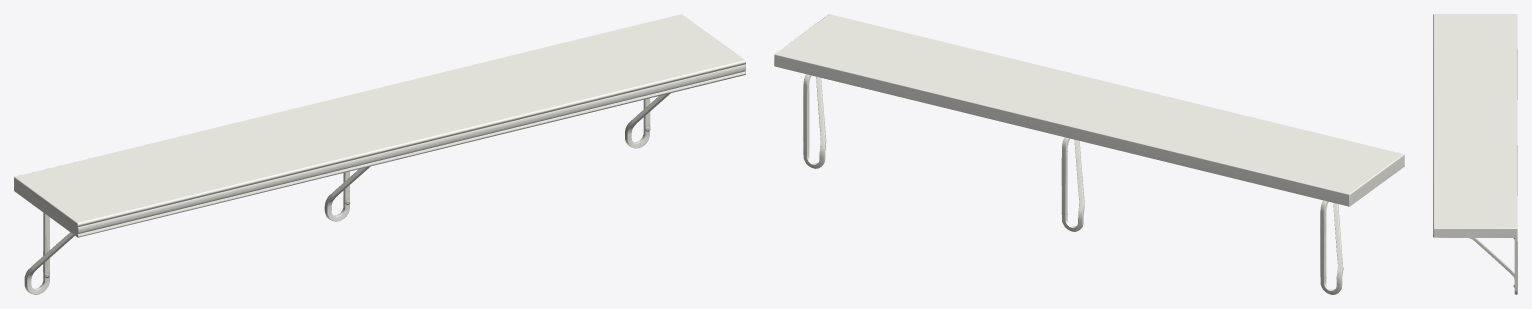
Rendered from 33 - BERGSHULT FÖRLÄGGARE Wall shelf - whitewhite 120x20 cm.glb.
The picture shows the model from 3 angles, left to right: view 1: azimuth 30°, elevation 25°; view 2: azimuth 150°, elevation 25°; view 3: azimuth 270°, elevation 25°; orthographic projection. The views are drawn at different scales.
Parts seen in each view (by area): view 1: Mesh_0, Mesh_1; view 2: Mesh_0, Mesh_1; view 3: Mesh_0, Mesh_1.
Part boxes in pixels (<box>): Mesh_0: <box>14,14,745,237</box>; Mesh_1: <box>24,93,670,294</box>; Mesh_0: <box>774,14,1404,206</box>; Mesh_1: <box>803,74,1343,294</box>; Mesh_0: <box>1433,14,1517,237</box>; Mesh_1: <box>1469,49,1517,294</box>.
Size of the model in its own units: 1.2 by 0.2096 by 0.2003.
Materials: 2 (2 with a texture image).
